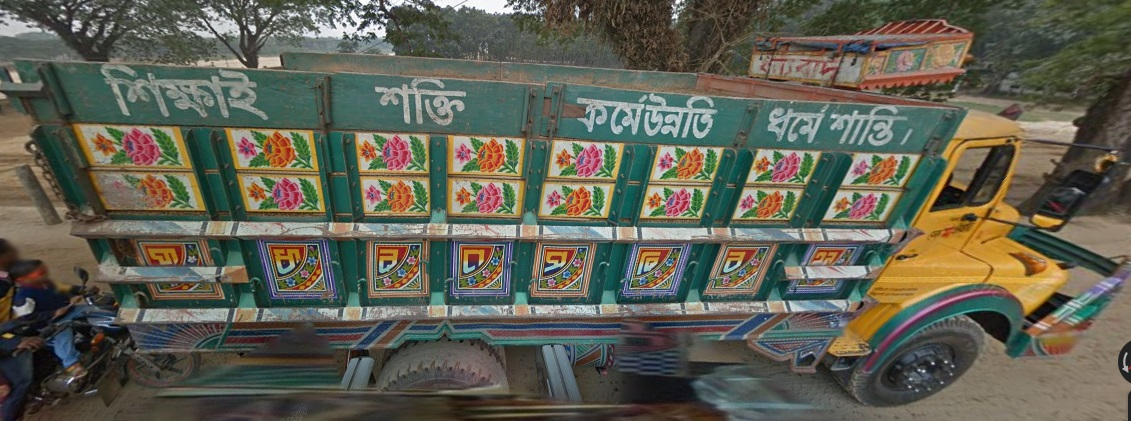truck: (16, 25, 1115, 403)
